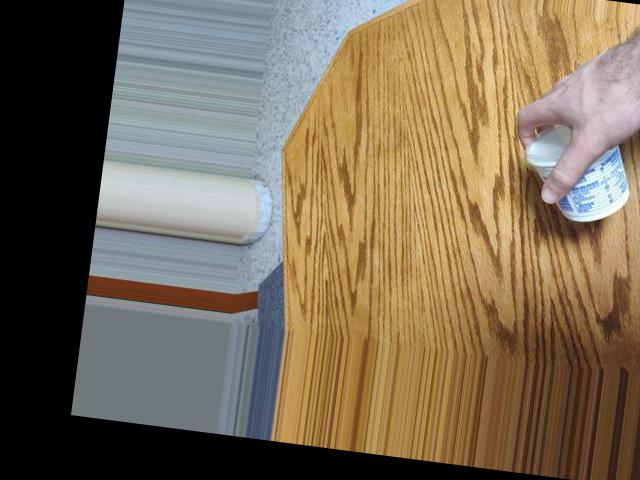cotage: (519, 104, 640, 219)
